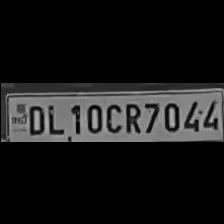0: (83, 100, 103, 132), (160, 99, 180, 131)
1: (64, 100, 82, 134)
4: (180, 97, 200, 131), (198, 96, 218, 130)
7: (140, 99, 160, 133)
C: (103, 99, 121, 133)
D: (23, 102, 44, 134)
L: (44, 100, 64, 134)
R: (122, 99, 140, 133)
